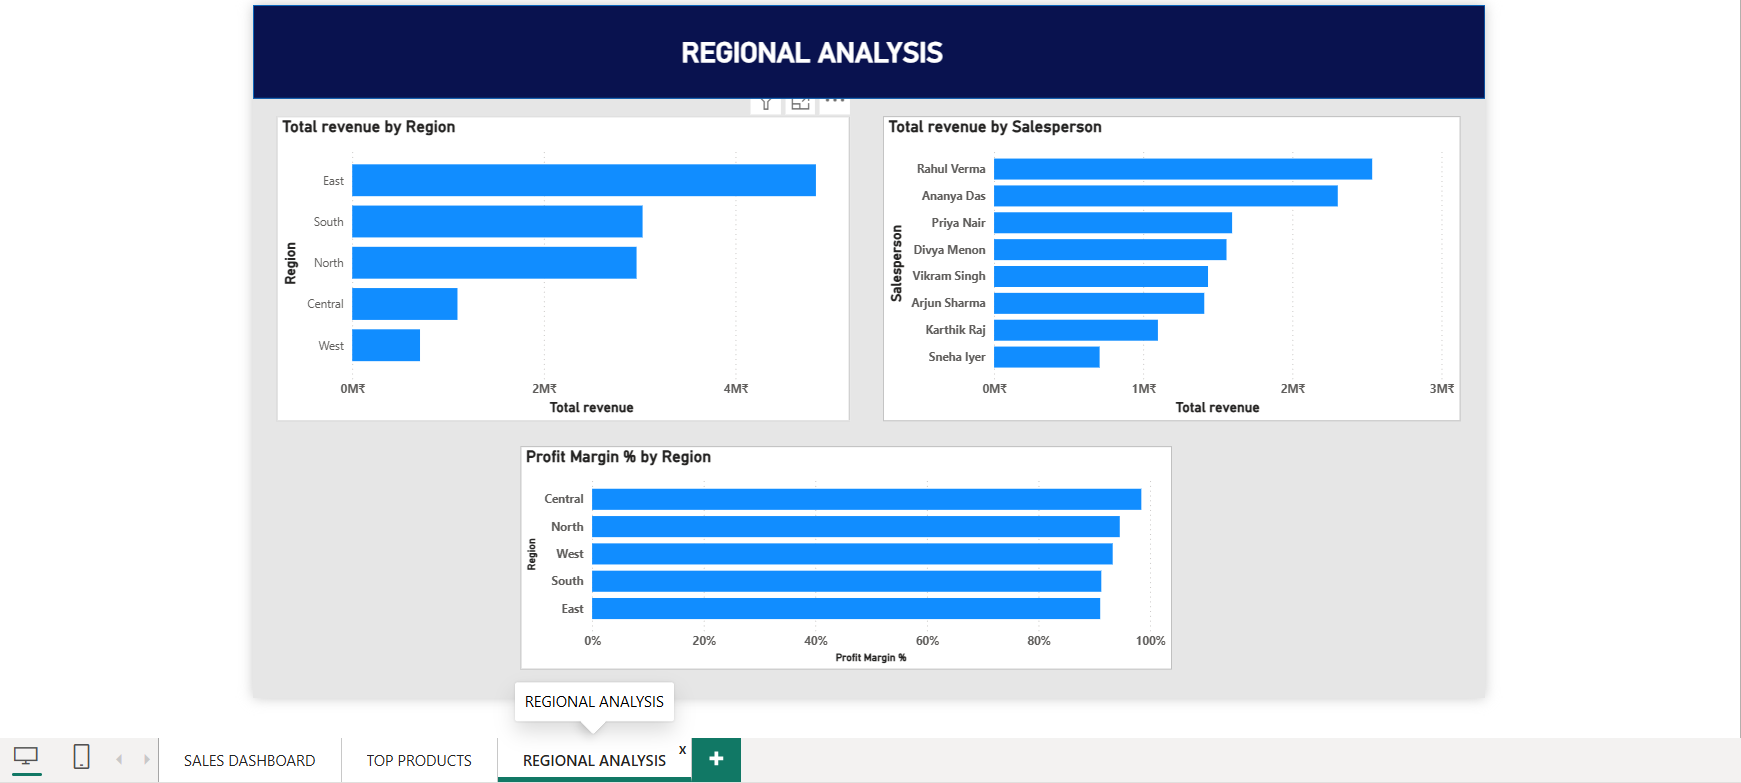

What the dashboard file says about the page in this screenshot:
{"tool":"powerbi","page":{"name":"REGIONAL ANALYSIS ","canvas":[1280,720],"ordinal":2},"visuals":[{"type":"barChart","fields":{"Category":["Sales Data.Region"],"Y":["Sales Data.total revenue"]},"box":[24.7,115.3,595.5,317],"z":0},{"type":"barChart","fields":{"Category":["Sales Data.Salesperson"],"Y":["Sales Data.total revenue"]},"box":[654.5,115.3,599.7,317],"z":1000},{"type":"barChart","fields":{"Category":["Sales Data.Region"],"Y":["Sales Data.Profit Margin %"]},"box":[278.6,458.3,676.5,231.9],"z":2000},{"type":"shape","box":[0,0,1280.3,97.4],"z":3000},{"type":"textbox","title":"REGIONAL ANALYSIS","box":[440.5,32.9,775.3,34.3],"z":4000}]}

Visuals, with their boxes on the page's 1280x720 design canvas (x1, y1, x2, y2). These are canvas units, not pixel positions in the 1741x783 screenshot, which may show the page scaled, cropped or inside an application window:
barChart - Sales Data.Region x Sales Data.total revenue: Rect(25, 115, 620, 432)
barChart - Sales Data.Salesperson x Sales Data.total revenue: Rect(654, 115, 1254, 432)
barChart - Sales Data.Region x Sales Data.Profit Margin %: Rect(279, 458, 955, 690)
shape: Rect(0, 0, 1280, 97)
"REGIONAL ANALYSIS" textbox: Rect(440, 33, 1216, 67)
